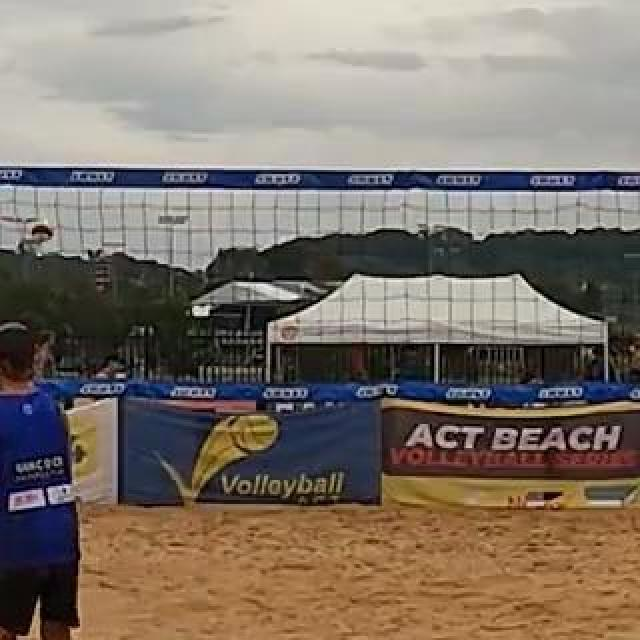volleyball: (32, 219, 54, 243)
